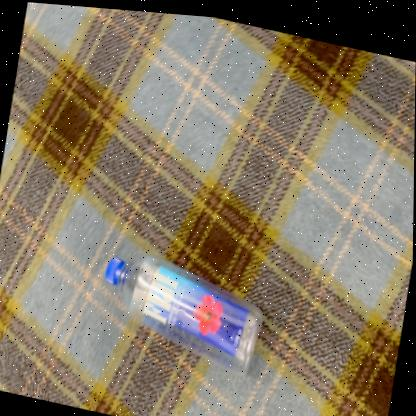Plastic: (106, 252, 263, 370)
